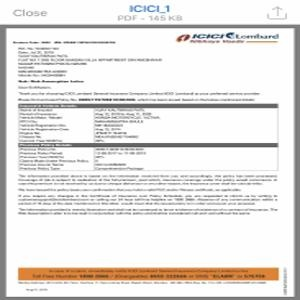image: (174, 30, 281, 49)
table: (16, 103, 279, 142), (17, 142, 279, 172)
text: (9, 37, 263, 102), (17, 173, 279, 215)
